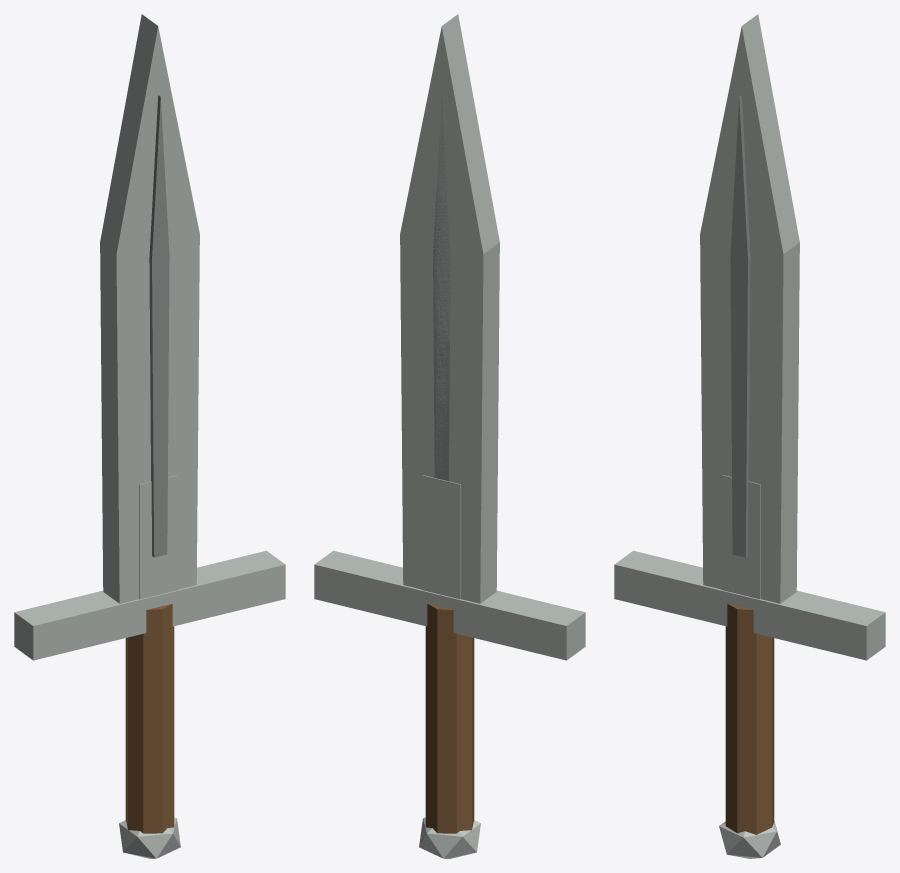
File: stoneSword.glb
3 views of the same model, side by side, from view 1: azimuth 30°, elevation 25°; view 2: azimuth 150°, elevation 25°; view 3: azimuth 330°, elevation 25° (orthographic).
Visible parts, largest first — view 1: Blade, Guard, Grip, BladeRidge, BladeTang, Pommel; view 2: Blade, Guard, Grip, BladeRidge, BladeTang, Pommel; view 3: Blade, Guard, Grip, BladeRidge, BladeTang, Pommel.
Boxes of the visible parts, box(x1,y1,x2,y2) form: Blade: box(100, 14, 199, 603); Guard: box(14, 550, 285, 660); Grip: box(125, 603, 174, 833); BladeRidge: box(149, 95, 169, 557); BladeTang: box(139, 475, 177, 599); Pommel: box(119, 817, 180, 858); Blade: box(400, 14, 499, 603); Guard: box(314, 550, 585, 660); Grip: box(425, 603, 474, 833); BladeRidge: box(433, 97, 450, 481); BladeTang: box(422, 475, 460, 599); Pommel: box(419, 817, 480, 858); Blade: box(700, 14, 799, 603); Guard: box(614, 550, 885, 660); Grip: box(725, 603, 774, 834); BladeRidge: box(730, 95, 750, 557); BladeTang: box(722, 475, 760, 599); Pommel: box(719, 821, 780, 858).
Size of the model in its own units: 0.46 by 1.46 by 0.0936.
